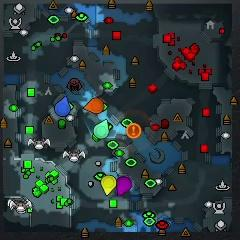Other: (126, 124, 141, 138)
p1: (55, 97, 70, 117)
p2: (95, 120, 109, 138)
p3: (116, 176, 131, 197)
p4: (102, 176, 116, 195)
p5: (84, 98, 104, 114)
